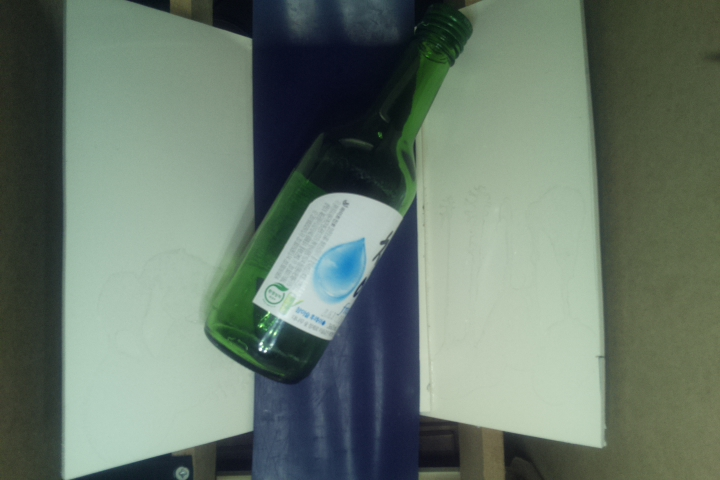soju: (203, 3, 474, 383)
